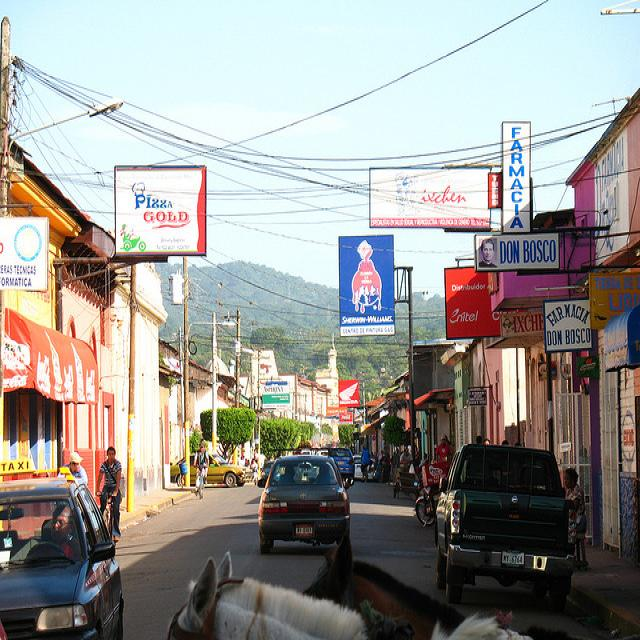motor: (414, 462, 447, 527)
